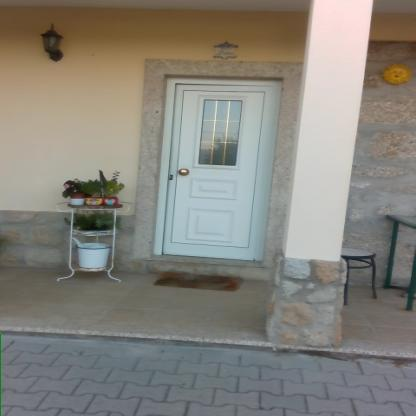closed: (142, 68, 292, 274)
